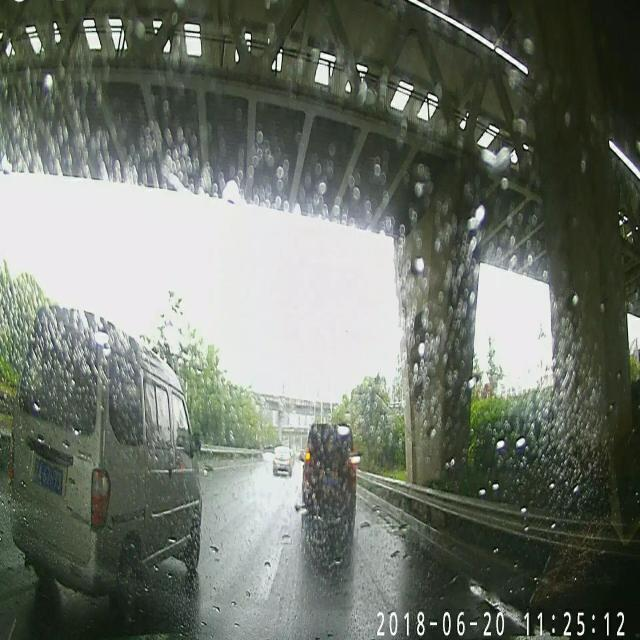car: (18, 299, 205, 589), (302, 418, 357, 530), (271, 446, 294, 479)
